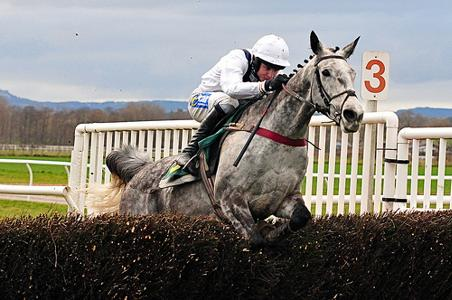person: (158, 32, 295, 190)
